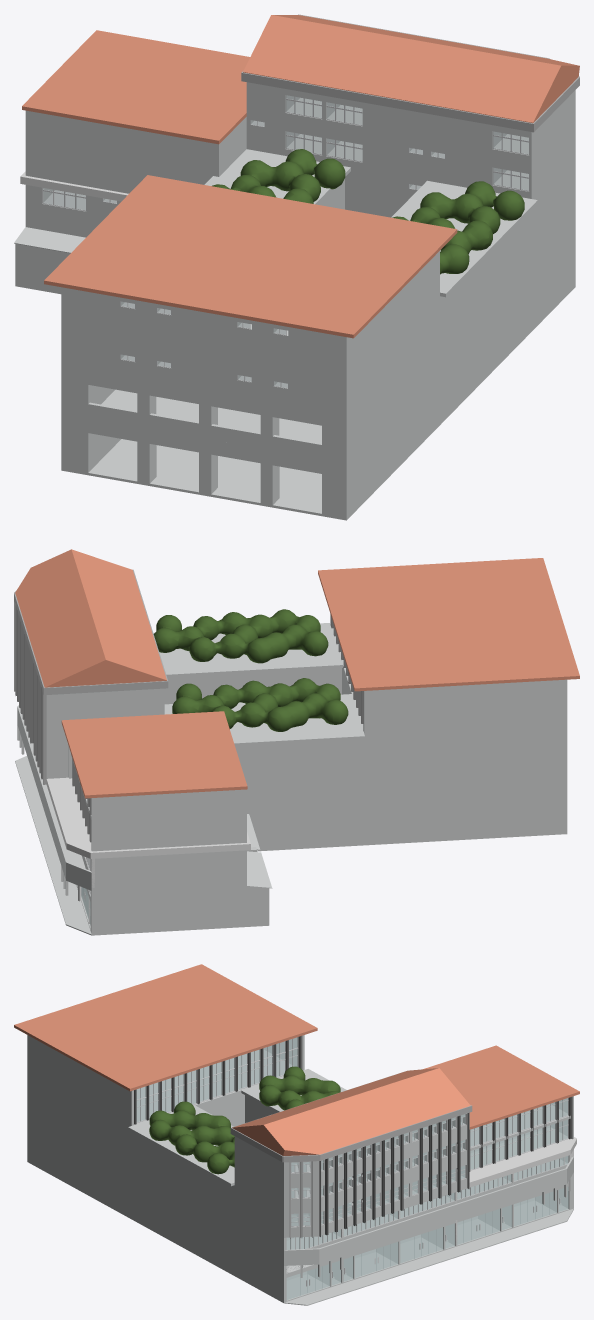
3 views of the same model, one above another, from view 1: azimuth 30°, elevation 25°; view 2: azimuth 150°, elevation 25°; view 3: azimuth 270°, elevation 25° (orthographic). The views are drawn at different scales.
Visible parts, largest first — view 1: Object.15226, Object.15227, Object.14951, Object.15224, Object.15228, Object.14931, Object.15225, Object.14942, Object.14934, Object.14941, Mball.002, Object.14940 (+11 smaller); view 2: Object.15226, Object.14951, Object.15227, Object.14931, Object.15225, Object.15228, Object.15224, Object.14936, Object.15195, Mball.002, Mball.003, Object.14945 (+12 smaller); view 3: Object.15226, Object.14951, Object.15227, Object.15225, Object.14931, Object.15228, Object.14939, Object.14941, Object.15224, Object.14942, Object.021, Object.14940 (+12 smaller).
Boxes of the visible parts, box(x1,y1,x2,y2) form: Object.15226: box(44, 175, 457, 338); Object.15227: box(61, 275, 531, 520); Object.14951: box(243, 15, 579, 123); Object.15224: box(61, 251, 439, 391); Object.15228: box(61, 206, 531, 463); Object.14931: box(22, 30, 250, 144); Object.15225: box(61, 178, 531, 427); Object.14942: box(246, 82, 575, 166); Object.14934: box(28, 111, 216, 193); Object.14941: box(246, 116, 575, 199); Mball.002: box(392, 181, 524, 274); Object.14940: box(345, 158, 575, 238); Object.15226: box(318, 558, 579, 691); Object.14951: box(15, 549, 166, 687); Object.15227: box(247, 786, 567, 851); Object.14931: box(61, 711, 247, 798); Object.15225: box(164, 668, 567, 773); Object.15228: box(244, 756, 567, 804); Object.15224: box(330, 614, 567, 736); Object.14936: box(91, 789, 246, 851); Object.15195: box(46, 815, 246, 933); Mball.002: box(153, 609, 328, 663); Mball.003: box(172, 678, 348, 731); Object.14945: box(49, 809, 246, 887); Object.15226: box(14, 964, 317, 1091); Object.14951: box(232, 1068, 470, 1155); Object.15227: box(27, 1122, 234, 1275); Object.15225: box(27, 1071, 276, 1210); Object.14931: box(423, 1045, 579, 1129); Object.15228: box(27, 1096, 251, 1235); Object.14939: box(234, 1192, 483, 1263); Object.14941: box(234, 1137, 467, 1212); Object.15224: box(27, 1035, 304, 1126); Object.14942: box(234, 1113, 467, 1186); Object.021: box(136, 1037, 297, 1121); Object.14940: box(234, 1163, 467, 1237).
Bounding box in the file's own units: 1.37 × 0.5234 × 1.59.
